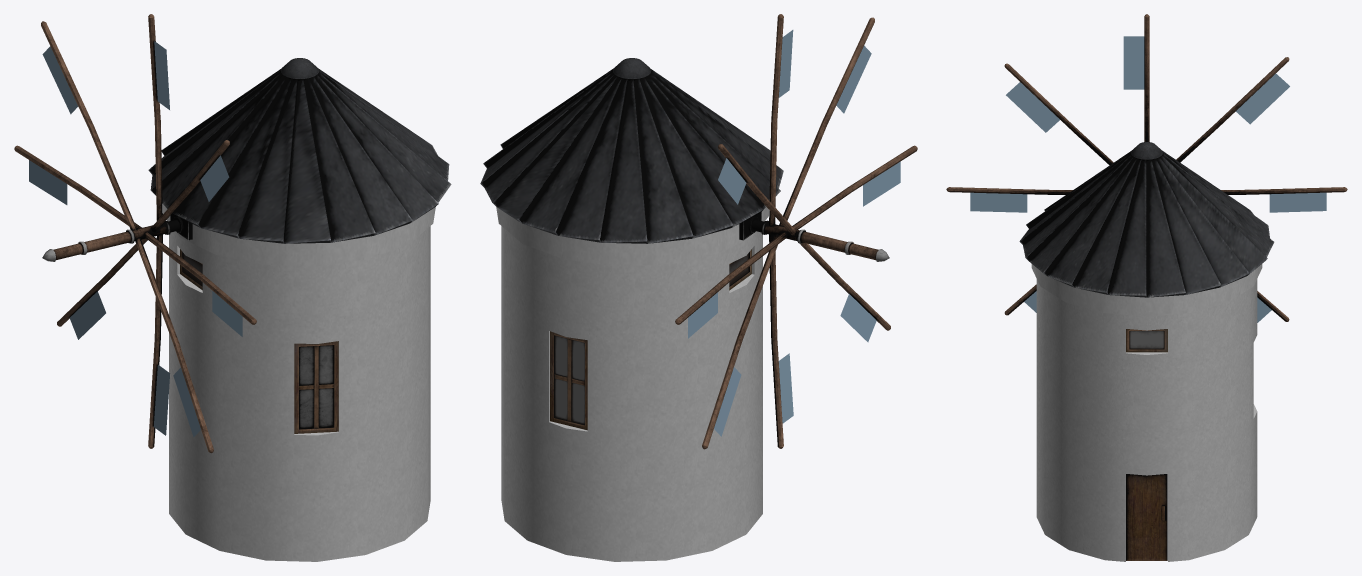
Rendered from Windmill_01.fbx.
3 views of the same model, side by side, from view 1: azimuth 30°, elevation 25°; view 2: azimuth 150°, elevation 25°; view 3: azimuth 270°, elevation 25° (orthographic). The views are drawn at different scales.
Parts seen in each view (by area): view 1: Windmill_01; view 2: Windmill_01; view 3: Windmill_01.
Boxes of the visible parts, box(x1,y1,x2,y2) form: Windmill_01: box(14, 14, 451, 561); Windmill_01: box(480, 14, 917, 561); Windmill_01: box(946, 14, 1347, 561).
Size of the model in its own units: 3.31 by 4.3 by 3.53.
1 material, 1 textured.
